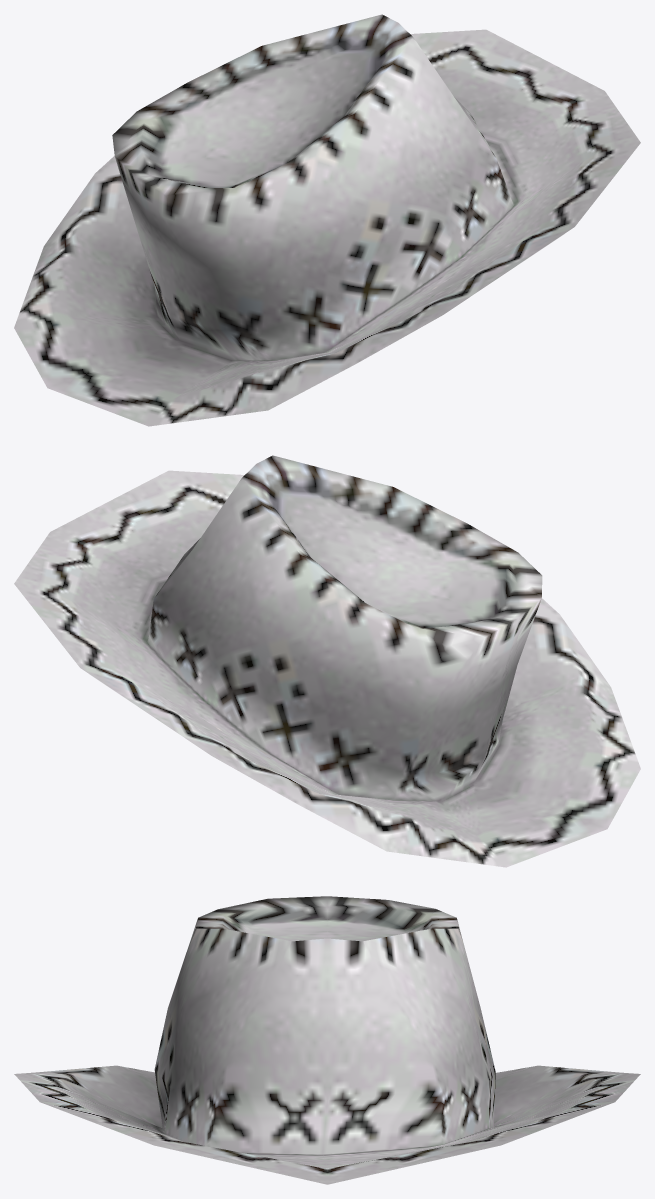
Rendered from hat_0400001.FBX.
3 views of the same model, one above another, from view 1: azimuth 30°, elevation 25°; view 2: azimuth 150°, elevation 25°; view 3: azimuth 270°, elevation 25° (orthographic). The views are drawn at different scales.
Visible parts, largest first — view 1: hat_0400001; view 2: hat_0400001; view 3: hat_0400001.
Boxes of the visible parts, left/top/right/bottom form: hat_0400001: left=14, top=14, right=640, bottom=426; hat_0400001: left=14, top=455, right=640, bottom=867; hat_0400001: left=14, top=896, right=640, bottom=1184.
Bounding box in the file's own units: 51.41 × 24.65 × 44.6.
